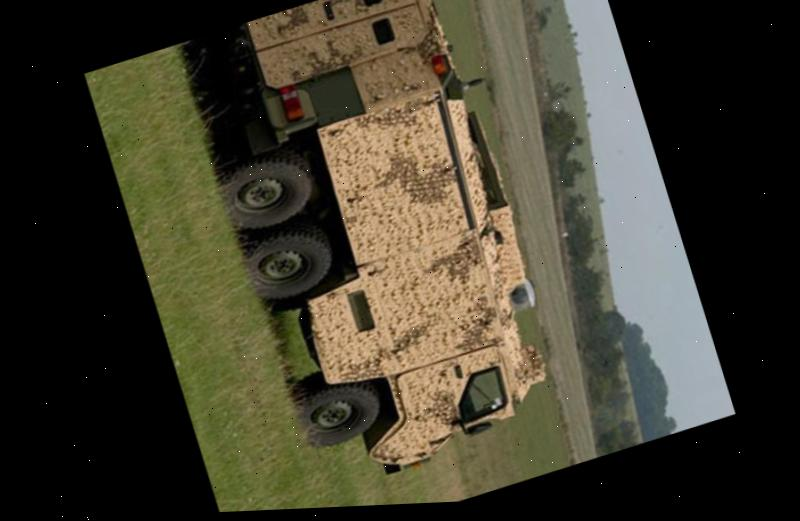truck: (172, 0, 594, 501)
